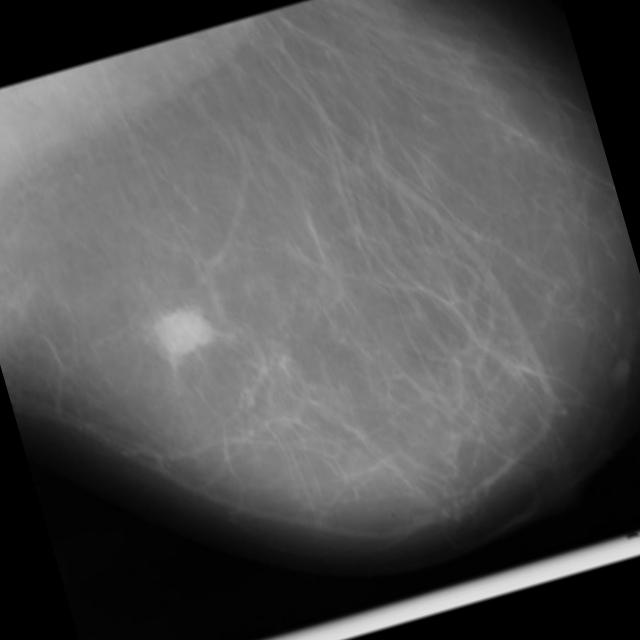MISC: (145, 294, 221, 369)
